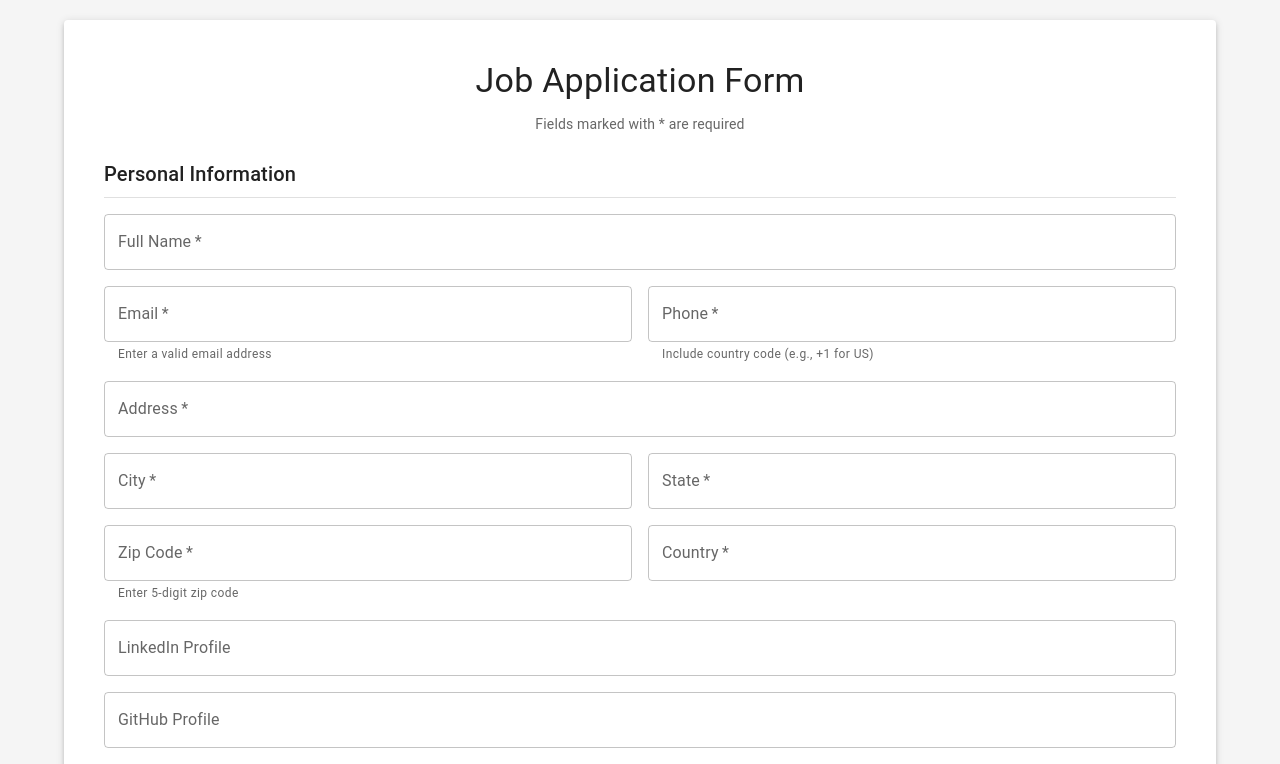
Test case: App › shows error when required fields are missing
Note: Fill some but not all required fields to bypass HTML5 validation
Click the field labelled "Full Name *" at {"x": 640, "y": 242}, box [104,214,1176,270]
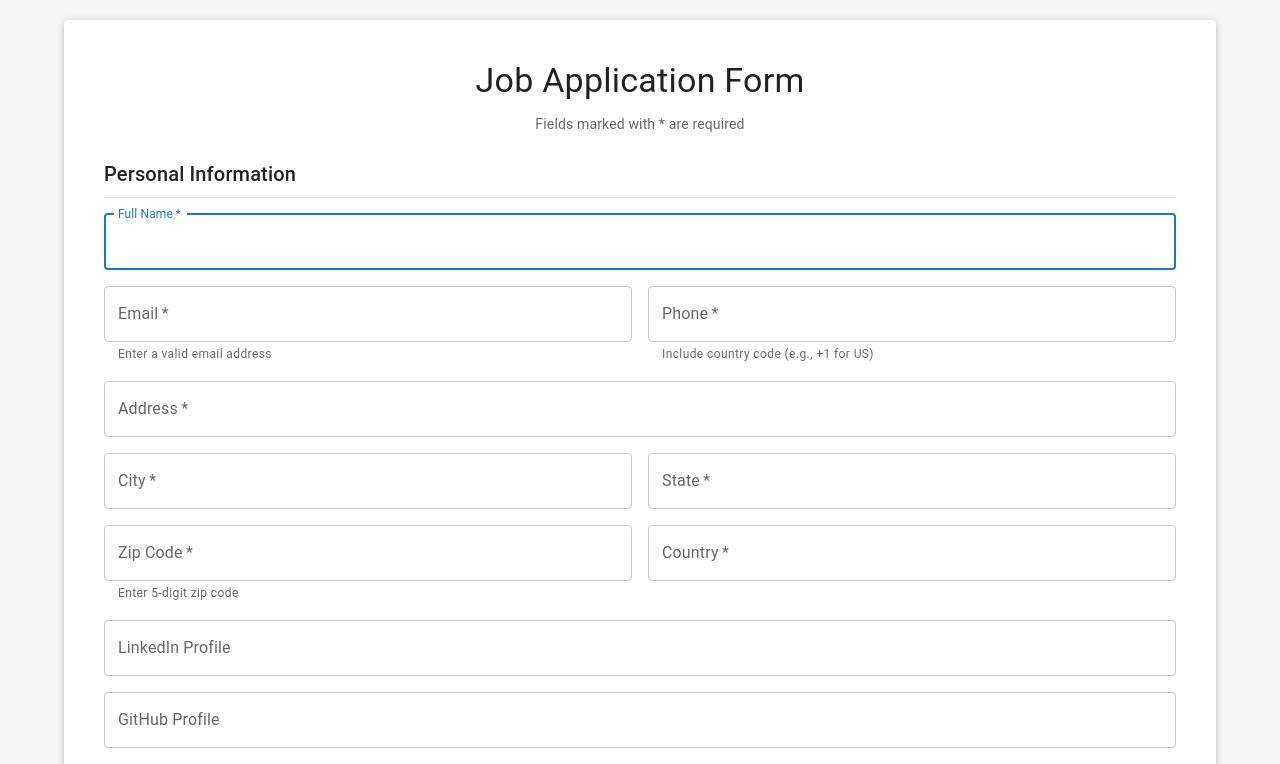
Type keys "John Doe"
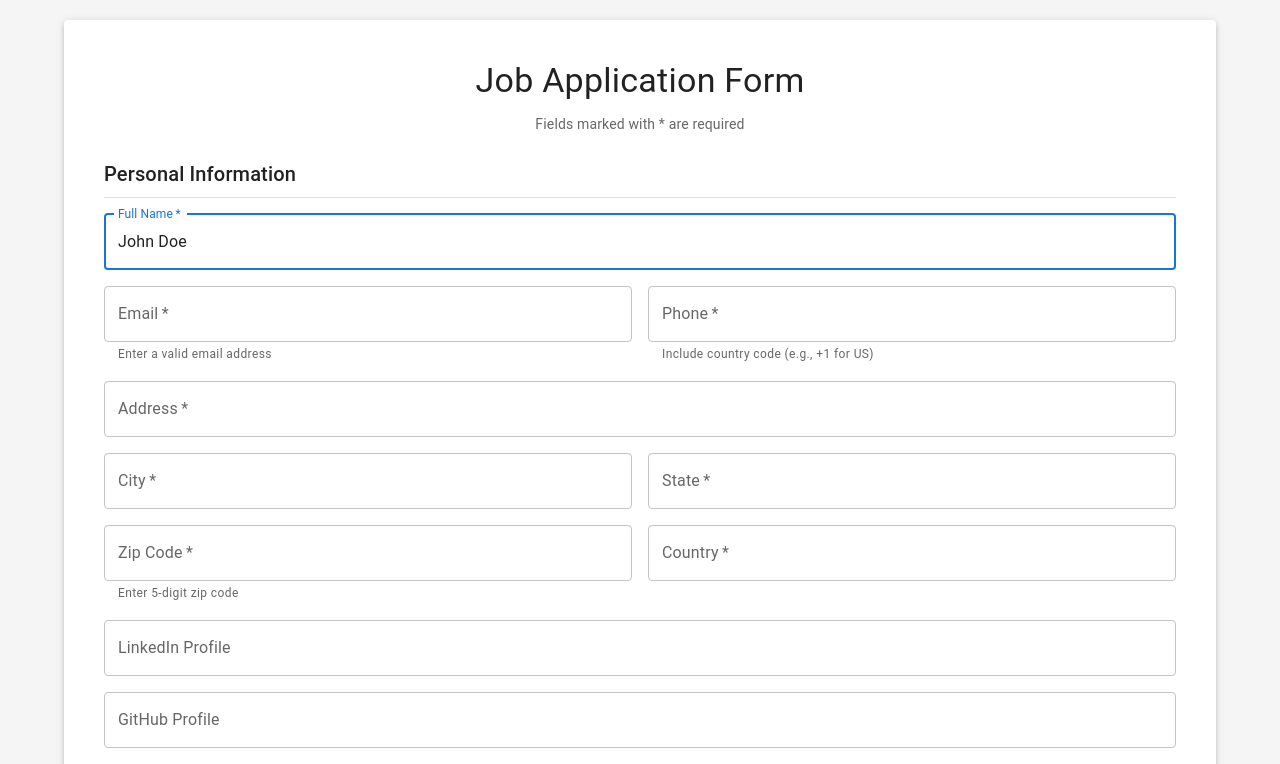
Click the field labelled "Email *" at {"x": 368, "y": 314}, box [104,286,632,342]
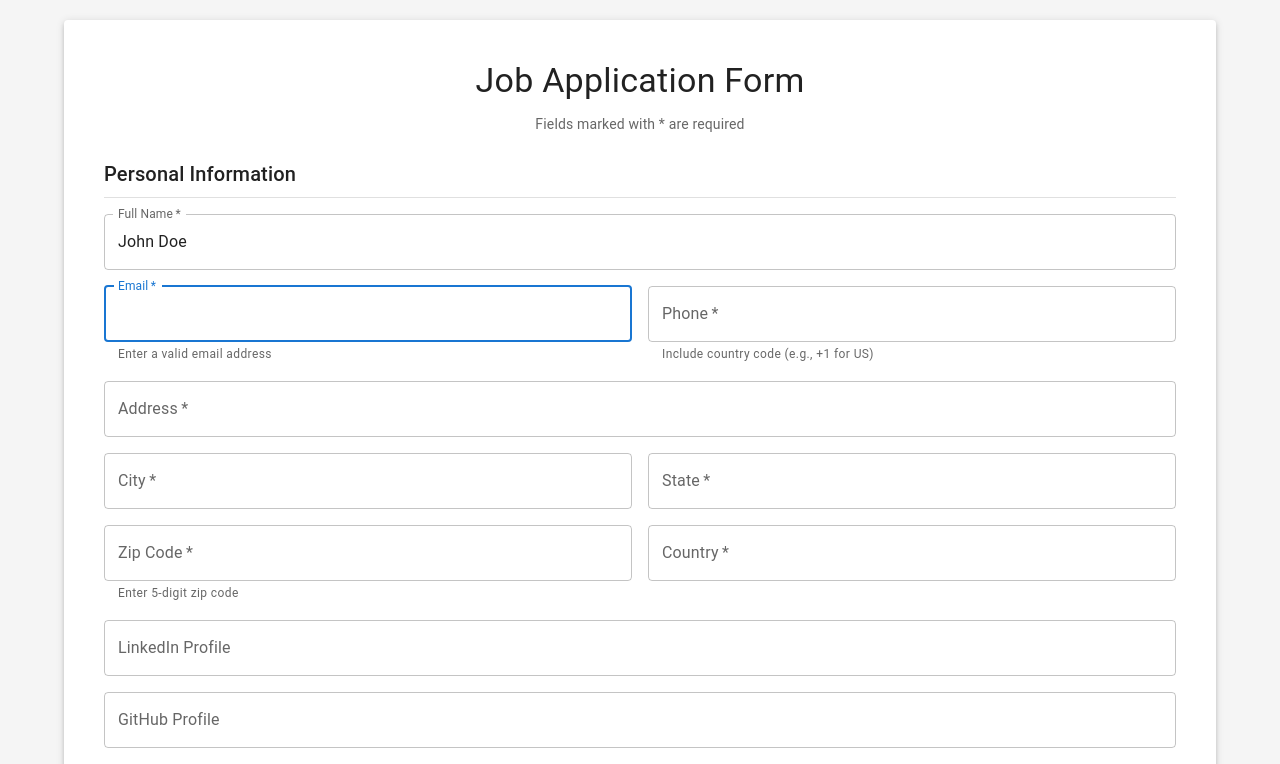
Type keys "john@example.com"
(page scrolled)
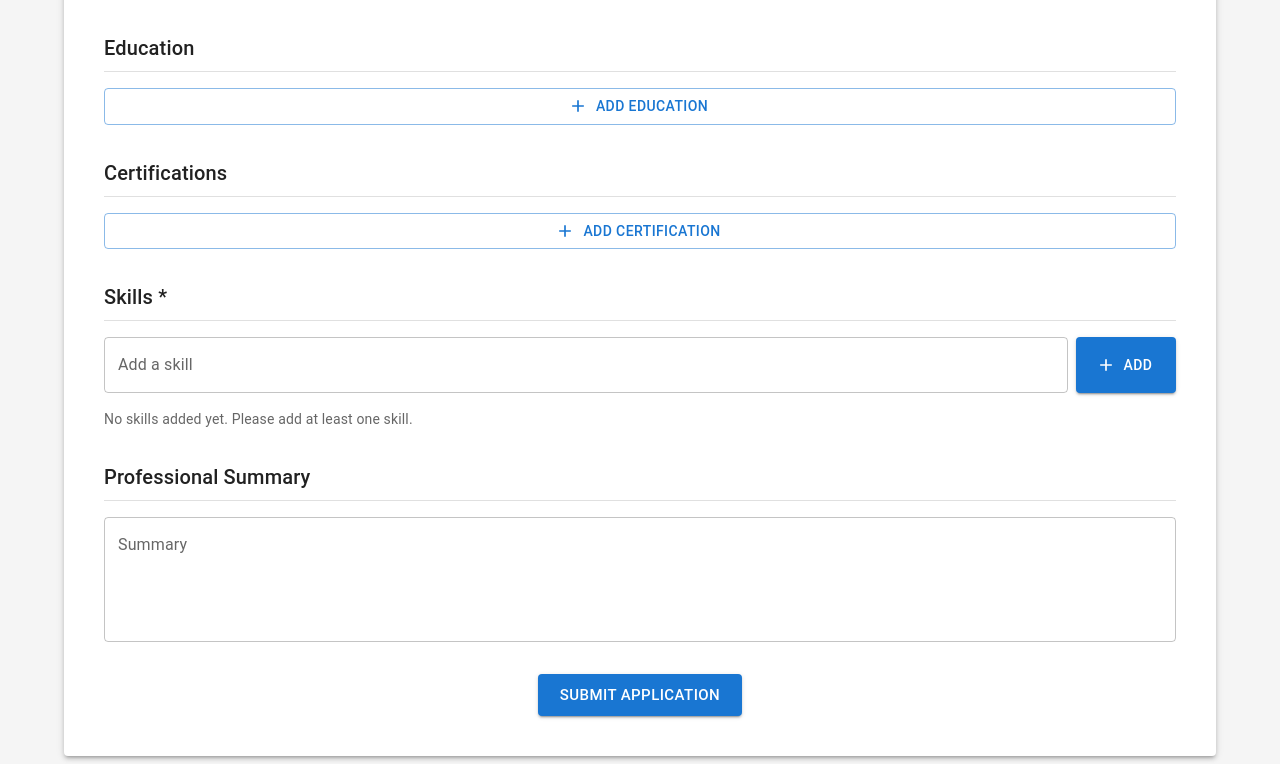
Click the button "Submit Application" at {"x": 640, "y": 695}, box [538,674,742,716]
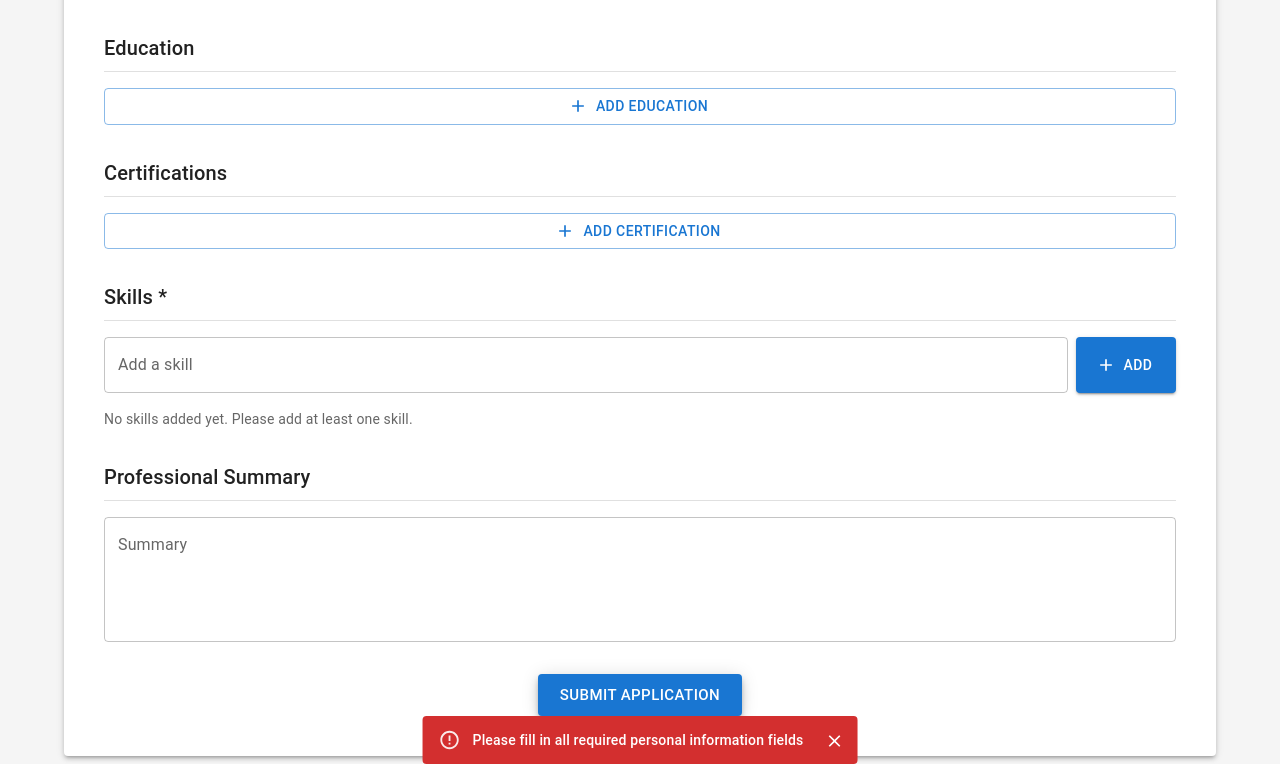
expect the text "Please fill in all required personal information fields" is shown: met, box [472,732,803,748]
